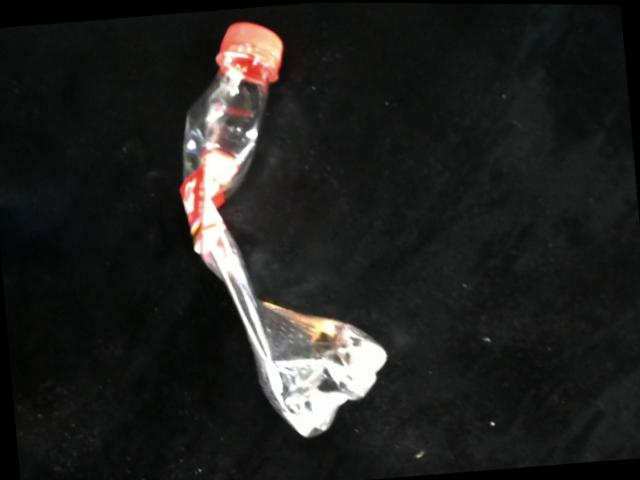bottle: (176, 20, 388, 447)
